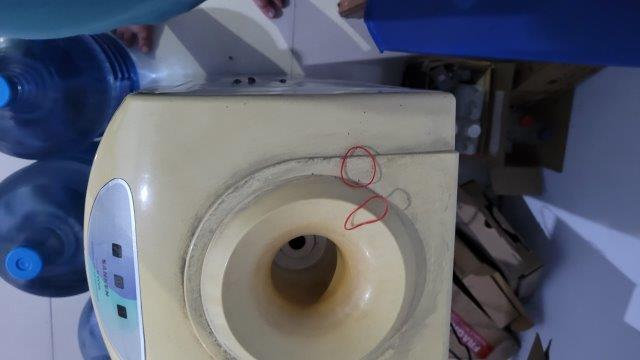karet: (345, 194, 389, 231), (340, 146, 376, 190)
